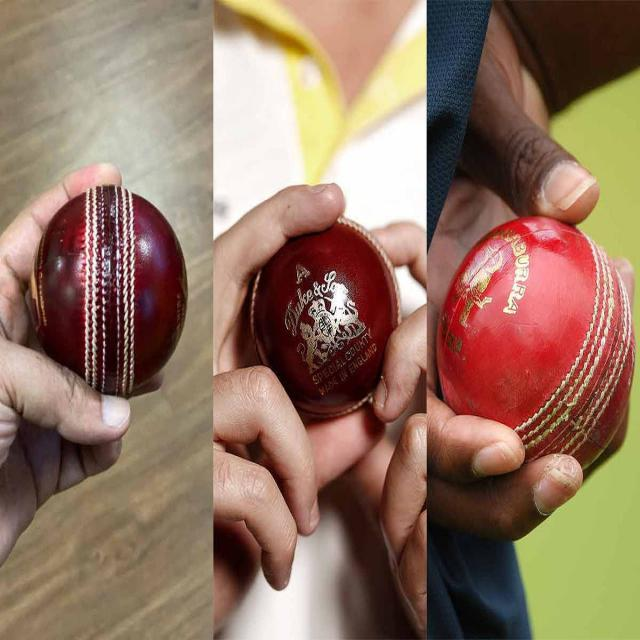ball: (437, 222, 637, 488), (30, 180, 190, 410), (248, 209, 402, 419)
